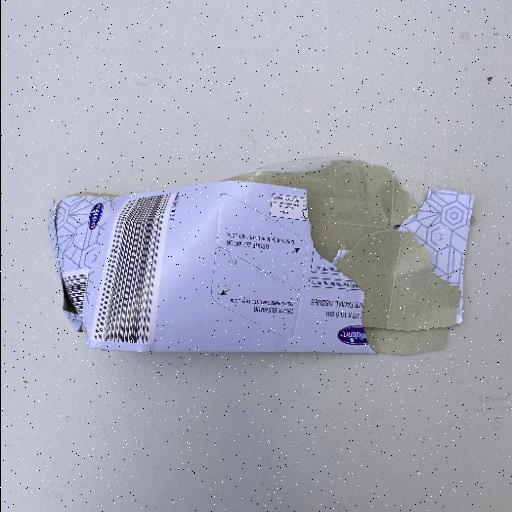Cardboard: (51, 156, 474, 358)
